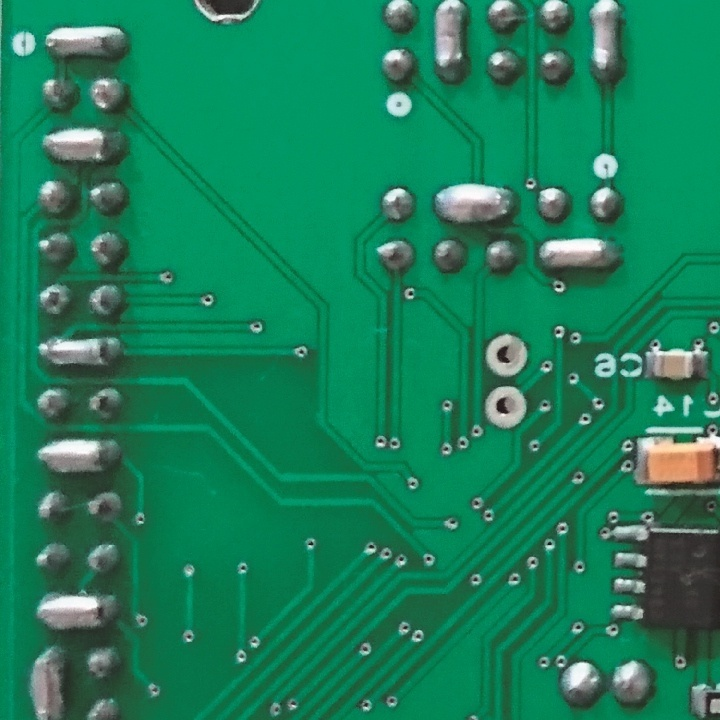F: (481, 380, 530, 432), (483, 329, 532, 380)
P: (33, 334, 131, 379), (427, 1, 476, 89), (533, 232, 624, 278), (29, 590, 122, 635), (431, 180, 516, 229), (39, 122, 129, 167), (34, 436, 124, 479), (25, 640, 72, 720), (39, 23, 132, 63), (586, 1, 627, 88)
